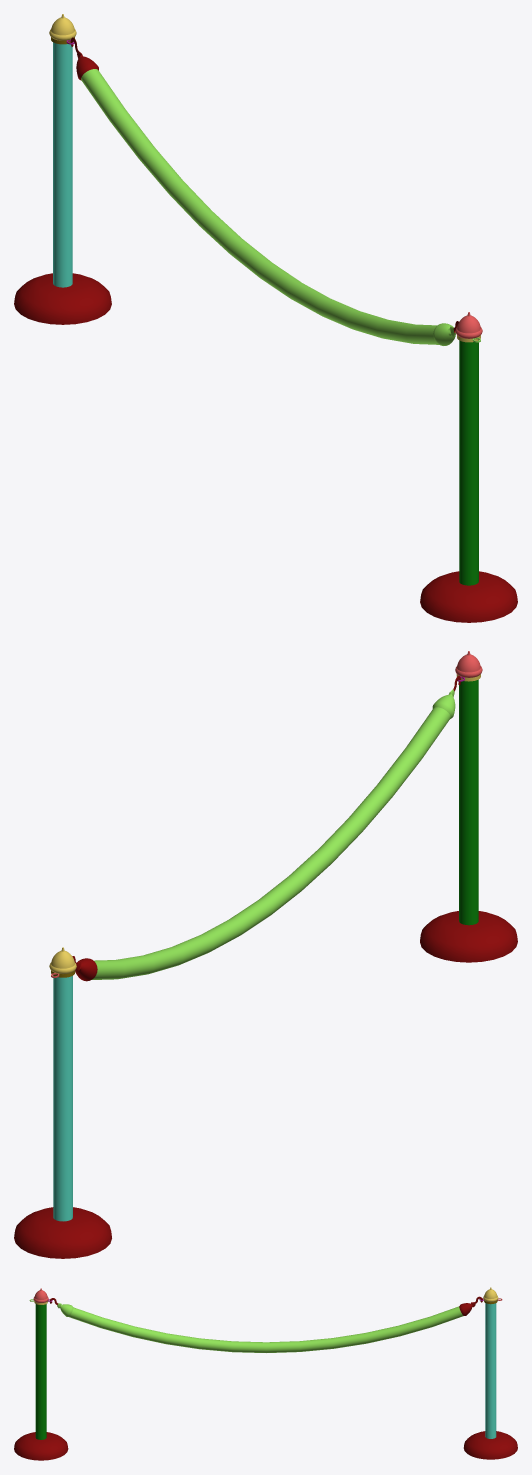
The model's file is pole.obj.
The picture shows the model from 3 angles, top to bottom: view 1: azimuth 30°, elevation 25°; view 2: azimuth 150°, elevation 25°; view 3: azimuth 270°, elevation 25°; orthographic projection. The views are drawn at different scales.
Visible parts, largest first — view 1: Group_016, Group_001, Group_017, Group_022, Group_006; view 2: Group_016, Group_017, Group_001, Group_022, Group_006; view 3: Group_016, Group_017, Group_001, Group_022, Group_006.
Part boxes in pixels (bbox=[...]): Group_016: bbox=[81, 69, 438, 344]; Group_001: bbox=[459, 340, 478, 585]; Group_017: bbox=[53, 42, 72, 287]; Group_022: bbox=[14, 273, 111, 324]; Group_006: bbox=[420, 571, 517, 622]; Group_016: bbox=[92, 707, 450, 979]; Group_017: bbox=[53, 976, 72, 1221]; Group_001: bbox=[459, 679, 478, 925]; Group_022: bbox=[14, 1207, 111, 1258]; Group_006: bbox=[420, 911, 517, 962]; Group_016: bbox=[69, 1306, 463, 1352]; Group_017: bbox=[485, 1303, 496, 1438]; Group_001: bbox=[35, 1304, 46, 1439]; Group_022: bbox=[463, 1431, 517, 1459]; Group_006: bbox=[14, 1432, 68, 1460].
Bounding box in the file's own units: 307 × 1000 × 2829.
